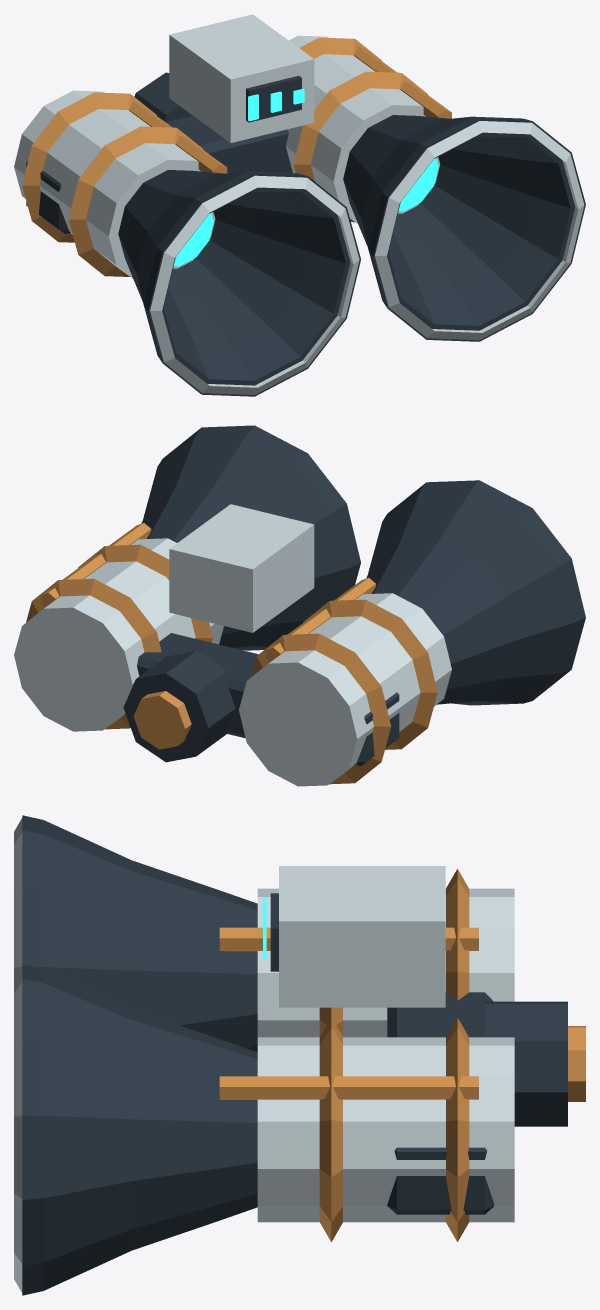
File: thrusterassembly.fbx
3 views of the same model, one above another, from view 1: azimuth 30°, elevation 25°; view 2: azimuth 150°, elevation 25°; view 3: azimuth 270°, elevation 25° (orthographic). The views are drawn at different scales.
Parts seen in each view (by area): view 1: Thruster Assembly.001; view 2: Thruster Assembly.001; view 3: Thruster Assembly.001.
Part boxes in pixels (x1,y1,x2,y2): Thruster Assembly.001: (14, 14, 585, 396); Thruster Assembly.001: (14, 425, 585, 786); Thruster Assembly.001: (14, 815, 585, 1295).
Size of the model in its own units: 288 by 145 by 240.
